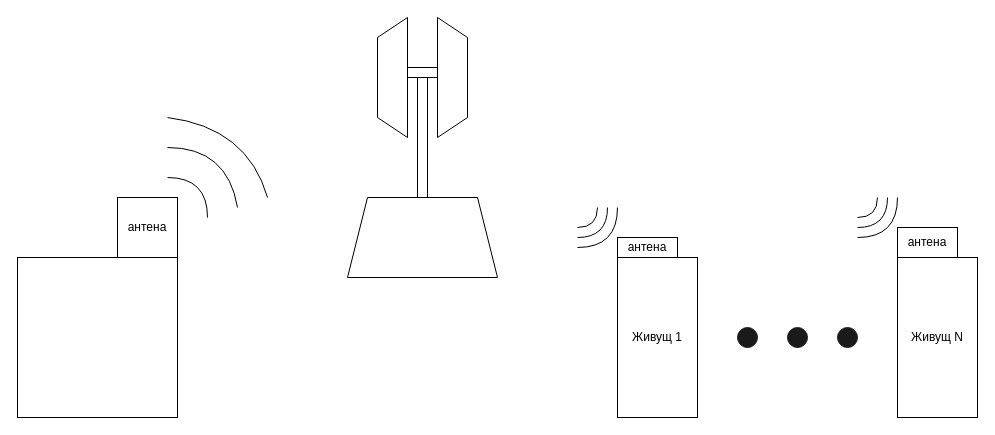
Some shapes in this 995 by 435 pixel diagram are drawn without their labels. The centre of each missing label's shape, as x and y in pixels:
"GSM кула" goes at [422,237].
"Домофон" goes at [97,337].
